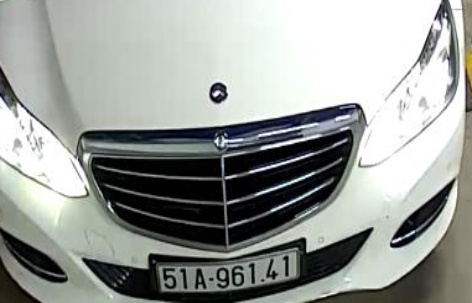plate: (145, 247, 314, 303)
